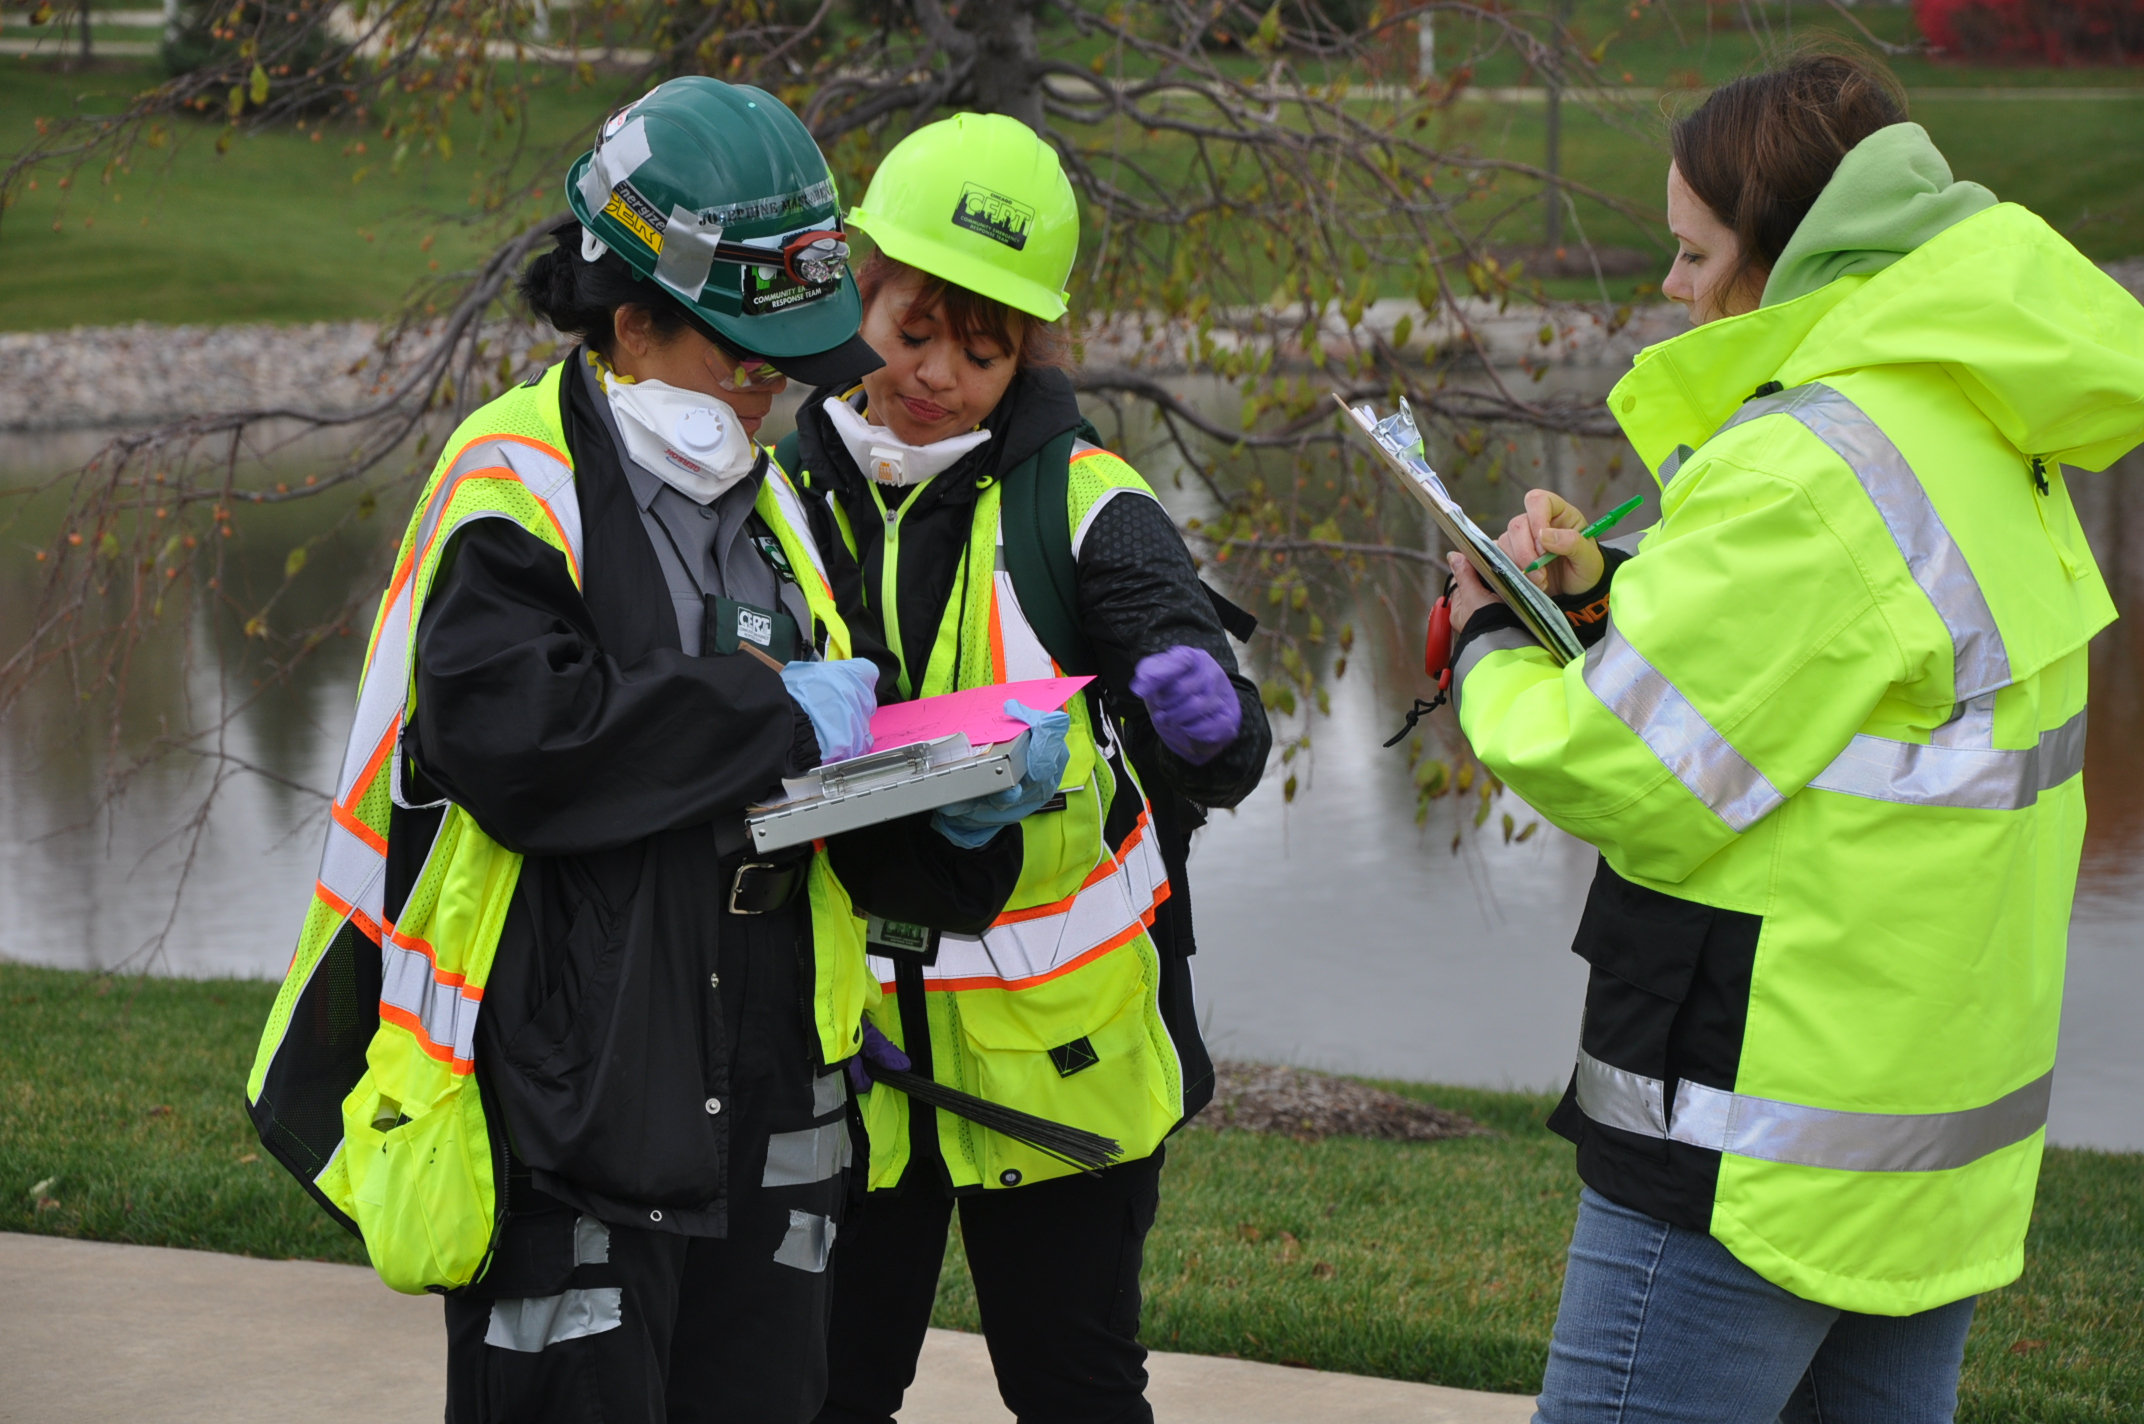helmet: (586, 79, 855, 359), (876, 113, 1079, 323)
